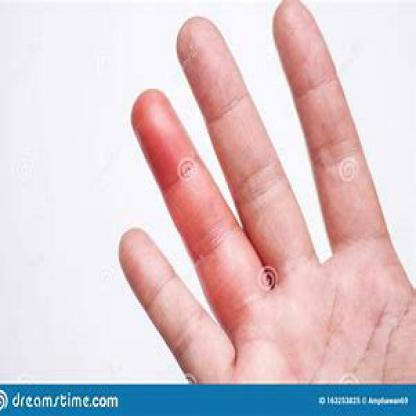Wasp: (134, 94, 185, 196)
